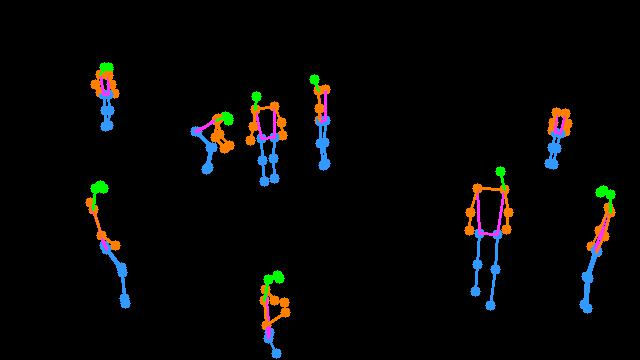normal: (242, 256, 318, 360), (238, 78, 296, 198)
